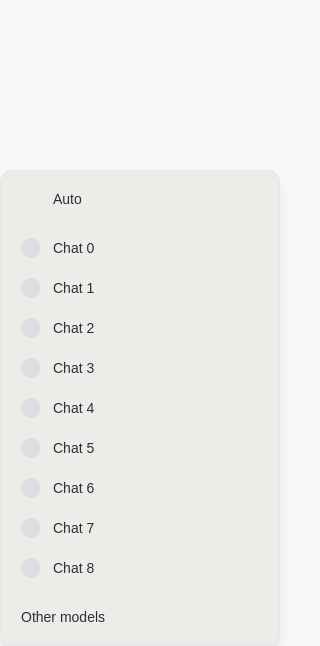
Scenario: model lifecycle tags › hides deprecated models unless one is the current selection
The image size is (320, 646).
(page scrolled)
Expected: the text "Chat 0" is shown, [53, 240, 94, 256]
Click the button "Other models": (63, 617) [9, 597, 271, 637]
(page scrolled)
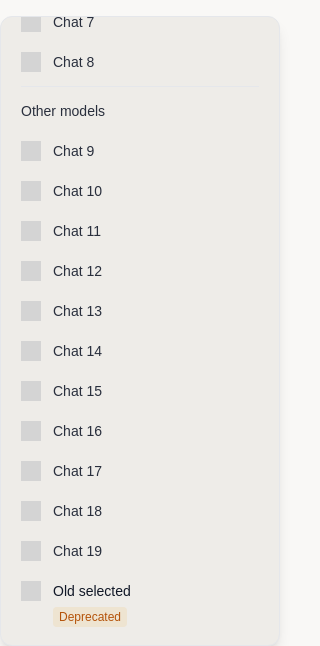
Expected: the text "Chat 19" is shown, [53, 543, 102, 559]
Expected: the text "Deprecated" is shown, [53, 607, 127, 627]
